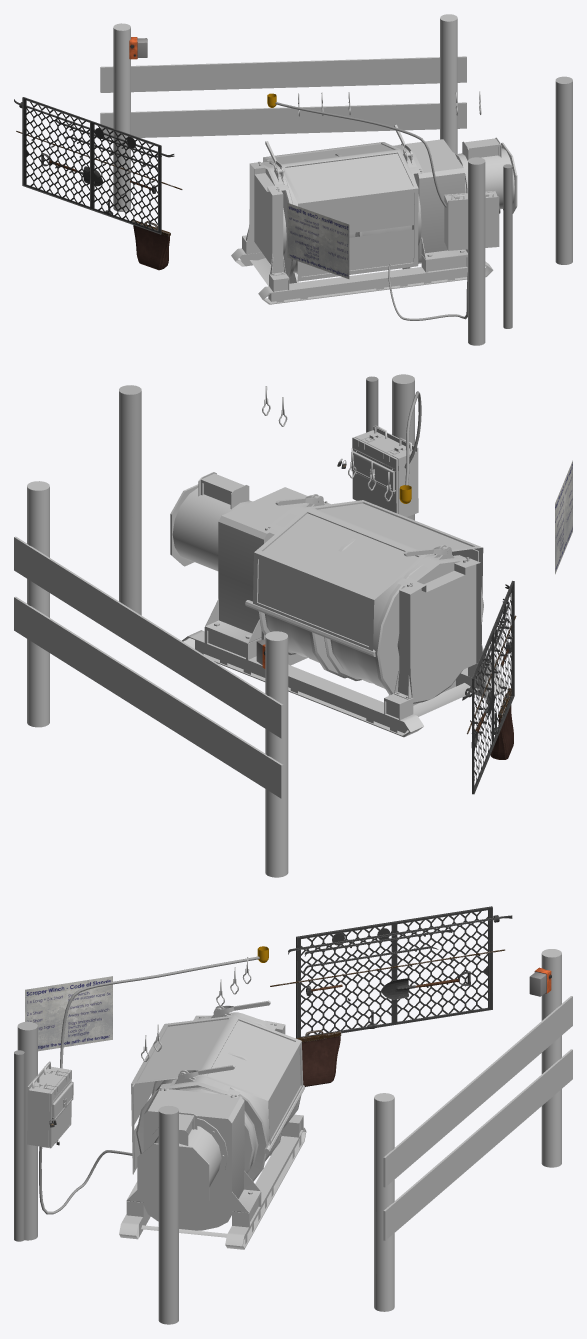
Rendered from Face winch power box on stick.fbx.
The picture shows the model from 3 angles, top to bottom: view 1: azimuth 30°, elevation 25°; view 2: azimuth 150°, elevation 25°; view 3: azimuth 270°, elevation 25°; orthographic projection. The views are drawn at different scales.
Visible parts, largest first — view 1: Winch__1_, Winch_005__1_, Tool_rack_001, Cube_001, Cube_001.001, Code_of_signals.001, Cylinder_003, Cylinder_003__1_, Cylinder_001, Cylinder_002, Power_Box.001, Cylinder_013 (+1 smaller); view 2: Winch__1_, Winch_005__1_, Cube_001, Cube_001.001, Tool_rack_001, Cylinder_003__1_, Cylinder_001, Power_Box.001, Cylinder_002, Cylinder_003, Code_of_signals.001, Cylinder_013 (+1 smaller); view 3: Winch__1_, Tool_rack_001, Winch_005__1_, Cube_001.001, Cube_001, Code_of_signals.001, Cylinder_003__1_, Cylinder_002, Power_Box.001, Cylinder_001, Cylinder_003, Cylinder_013 (+3 smaller).
Part boxes in pixels (box(x1,y1,x2,y2)): Winch__1_: box(231, 124, 517, 304); Winch_005__1_: box(263, 142, 418, 281); Tool_rack_001: box(14, 97, 182, 270); Cube_001: box(100, 56, 466, 92); Cube_001.001: box(100, 102, 466, 138); Code_of_signals.001: box(287, 203, 349, 278); Cylinder_003: box(468, 157, 485, 345); Cylinder_003__1_: box(555, 76, 572, 264); Cylinder_001: box(113, 23, 130, 211); Cylinder_002: box(440, 14, 457, 154); Power_Box.001: box(444, 191, 499, 250); Cylinder_013: box(503, 164, 512, 328); Winch__1_: box(170, 472, 507, 737); Winch_005__1_: box(253, 500, 483, 650); Cube_001: box(14, 536, 283, 738); Cube_001.001: box(14, 596, 283, 798); Tool_rack_001: box(462, 580, 516, 794); Cylinder_003__1_: box(119, 385, 141, 615); Cylinder_001: box(265, 631, 288, 877); Power_Box.001: box(351, 425, 418, 516); Cylinder_002: box(27, 481, 49, 727); Cylinder_003: box(392, 374, 414, 520); Code_of_signals.001: box(555, 460, 572, 574); Cylinder_013: box(366, 376, 378, 432); Winch__1_: box(119, 1000, 306, 1249); Tool_rack_001: box(270, 906, 512, 1086); Winch_005__1_: box(131, 1015, 303, 1174); Cube_001.001: box(383, 1049, 572, 1240); Cube_001: box(383, 996, 572, 1187); Code_of_signals.001: box(25, 976, 112, 1051); Cylinder_003__1_: box(158, 1105, 178, 1324); Cylinder_002: box(374, 1093, 394, 1311); Power_Box.001: box(27, 1061, 73, 1148); Cylinder_001: box(541, 949, 561, 1167); Cylinder_003: box(17, 1021, 37, 1240); Cylinder_013: box(14, 1050, 24, 1241).
Size of the model in its own units: 419 by 195 by 425.
